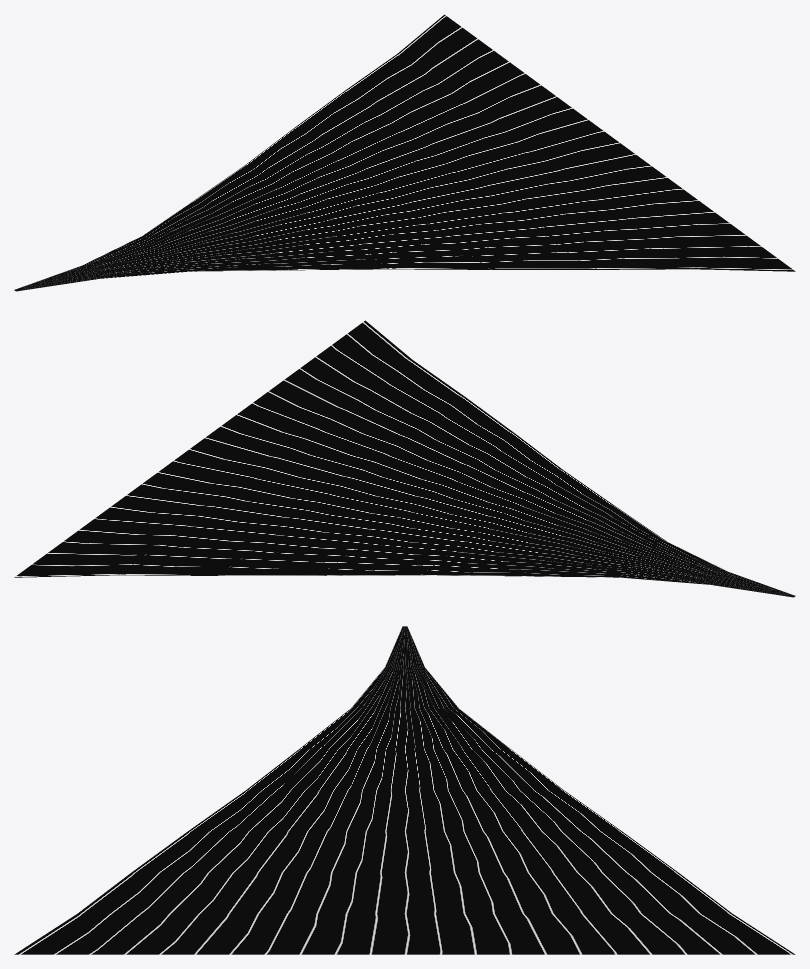
Rendered from ray_triangle.obj.
3 views of the same model, one above another, from view 1: azimuth 30°, elevation 25°; view 2: azimuth 150°, elevation 25°; view 3: azimuth 270°, elevation 25° (orthographic). The views are drawn at different scales.
Visible parts, largest first — view 1: Grid_Grid.002; view 2: Grid_Grid.002; view 3: Grid_Grid.002.
Boxes of the visible parts, x1=… form: Grid_Grid.002: x1=14, y1=14, x2=795, y2=291; Grid_Grid.002: x1=14, y1=320, x2=795, y2=597; Grid_Grid.002: x1=14, y1=626, x2=795, y2=954.
Size of the model in its own units: 1.99 by 0 by 2.
Materials: 1 (1 with a texture image).
